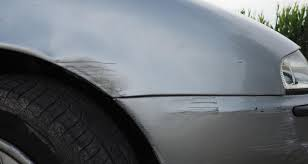scratch: (58, 52, 139, 98), (260, 103, 307, 157), (182, 93, 242, 116)
